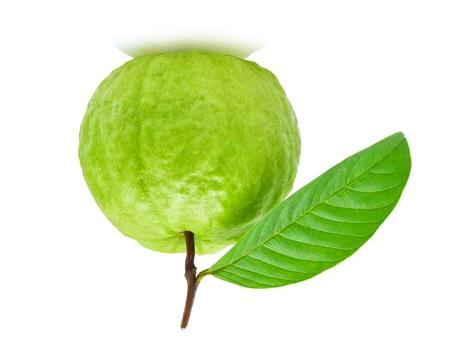oi: (83, 50, 302, 336)
